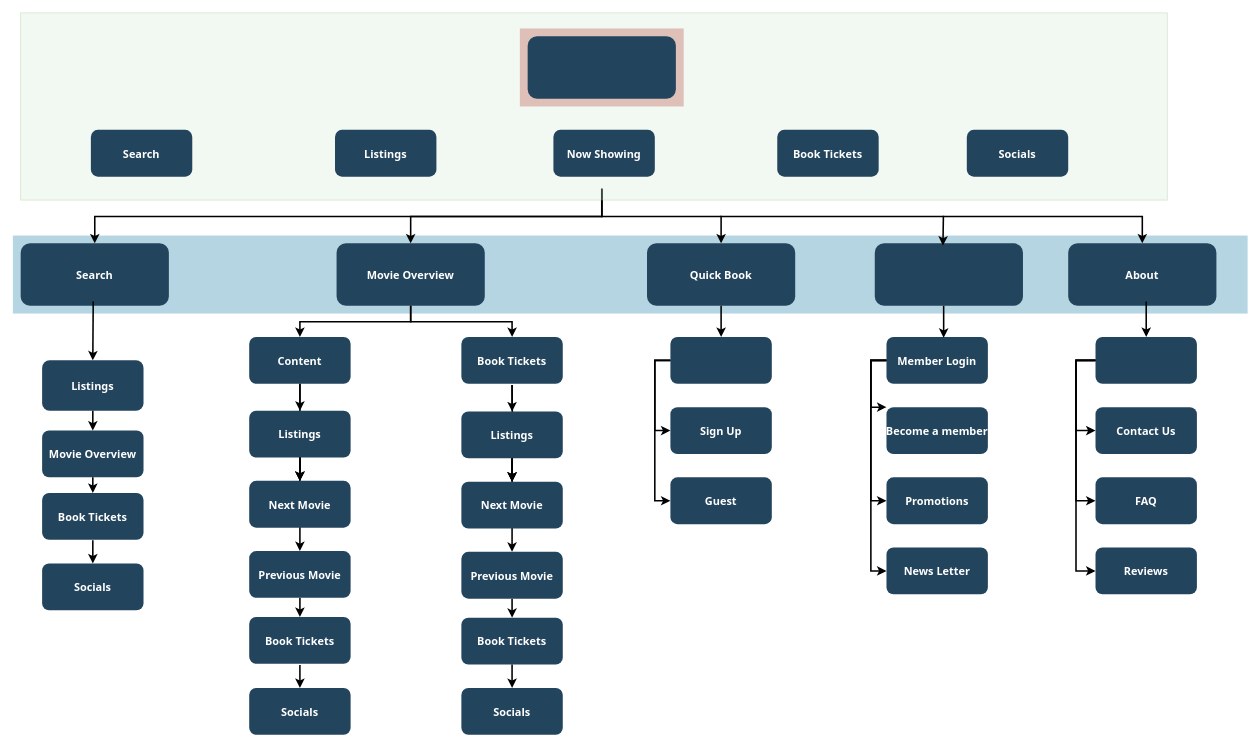
This 1260x747 diagram has some shape labels left out. Each missing label, with the box of its shape:
Get Directions: (1095, 337, 1197, 383)
Home: (527, 36, 675, 98)
Login: (670, 337, 771, 383)
Member Access: (874, 243, 1023, 305)
